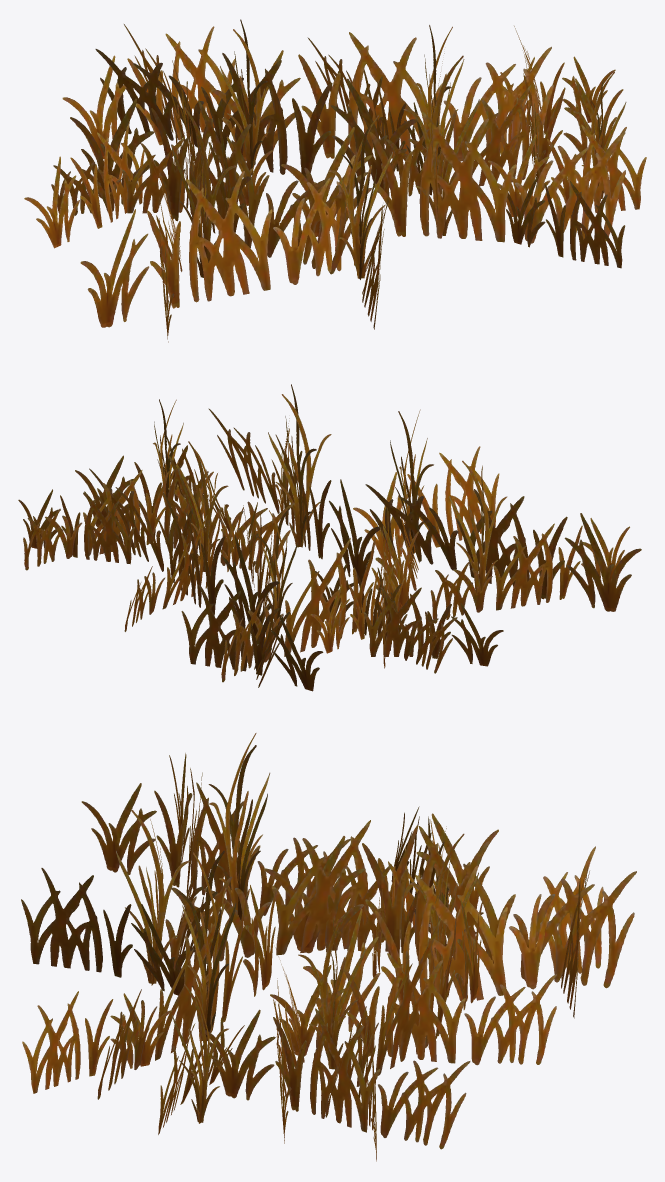
3 views of the same model, one above another, from view 1: azimuth 30°, elevation 25°; view 2: azimuth 150°, elevation 25°; view 3: azimuth 270°, elevation 25° (orthographic). The views are drawn at different scales.
Visible parts, largest first — view 1: SM_HL_Grass_Low_03_LOD0; view 2: SM_HL_Grass_Low_03_LOD0; view 3: SM_HL_Grass_Low_03_LOD0.
Boxes of the visible parts, x1,y1,x2,y2 form: SM_HL_Grass_Low_03_LOD0: (24,19,646,342); SM_HL_Grass_Low_03_LOD0: (18,384,641,691); SM_HL_Grass_Low_03_LOD0: (21,733,636,1161).
Size of the model in its own units: 1.54 by 0.4309 by 1.22.
Materials: 1 (1 with a texture image).
